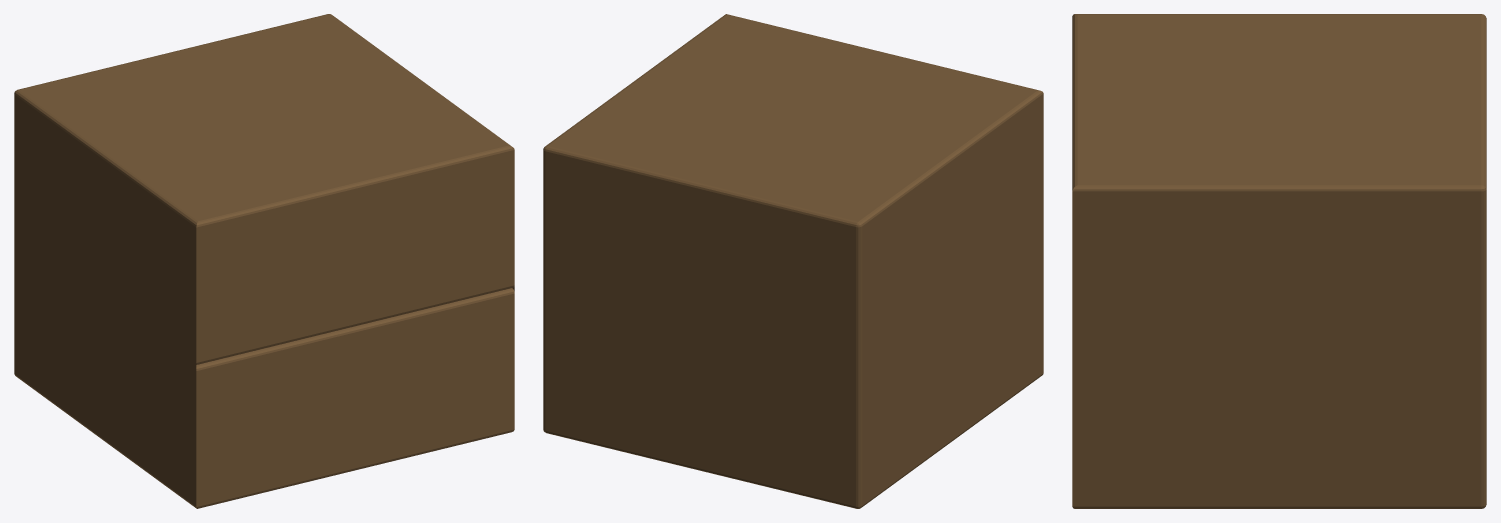
The model's file is closed_box.obj.
3 renders of one model, left to right at view 1: azimuth 30°, elevation 25°; view 2: azimuth 150°, elevation 25°; view 3: azimuth 270°, elevation 25°, orthographic. The views are drawn at different scales.
Visible parts, largest first — view 1: Cube.021_Cube.029; view 2: Cube.021_Cube.029; view 3: Cube.021_Cube.029.
Part boxes in pixels (<box>): Cube.021_Cube.029: <box>14,14,514,508</box>; Cube.021_Cube.029: <box>543,14,1043,508</box>; Cube.021_Cube.029: <box>1072,14,1486,508</box>.
Bounding box in the file's own units: 0.4696 × 0.4042 × 0.4696.
